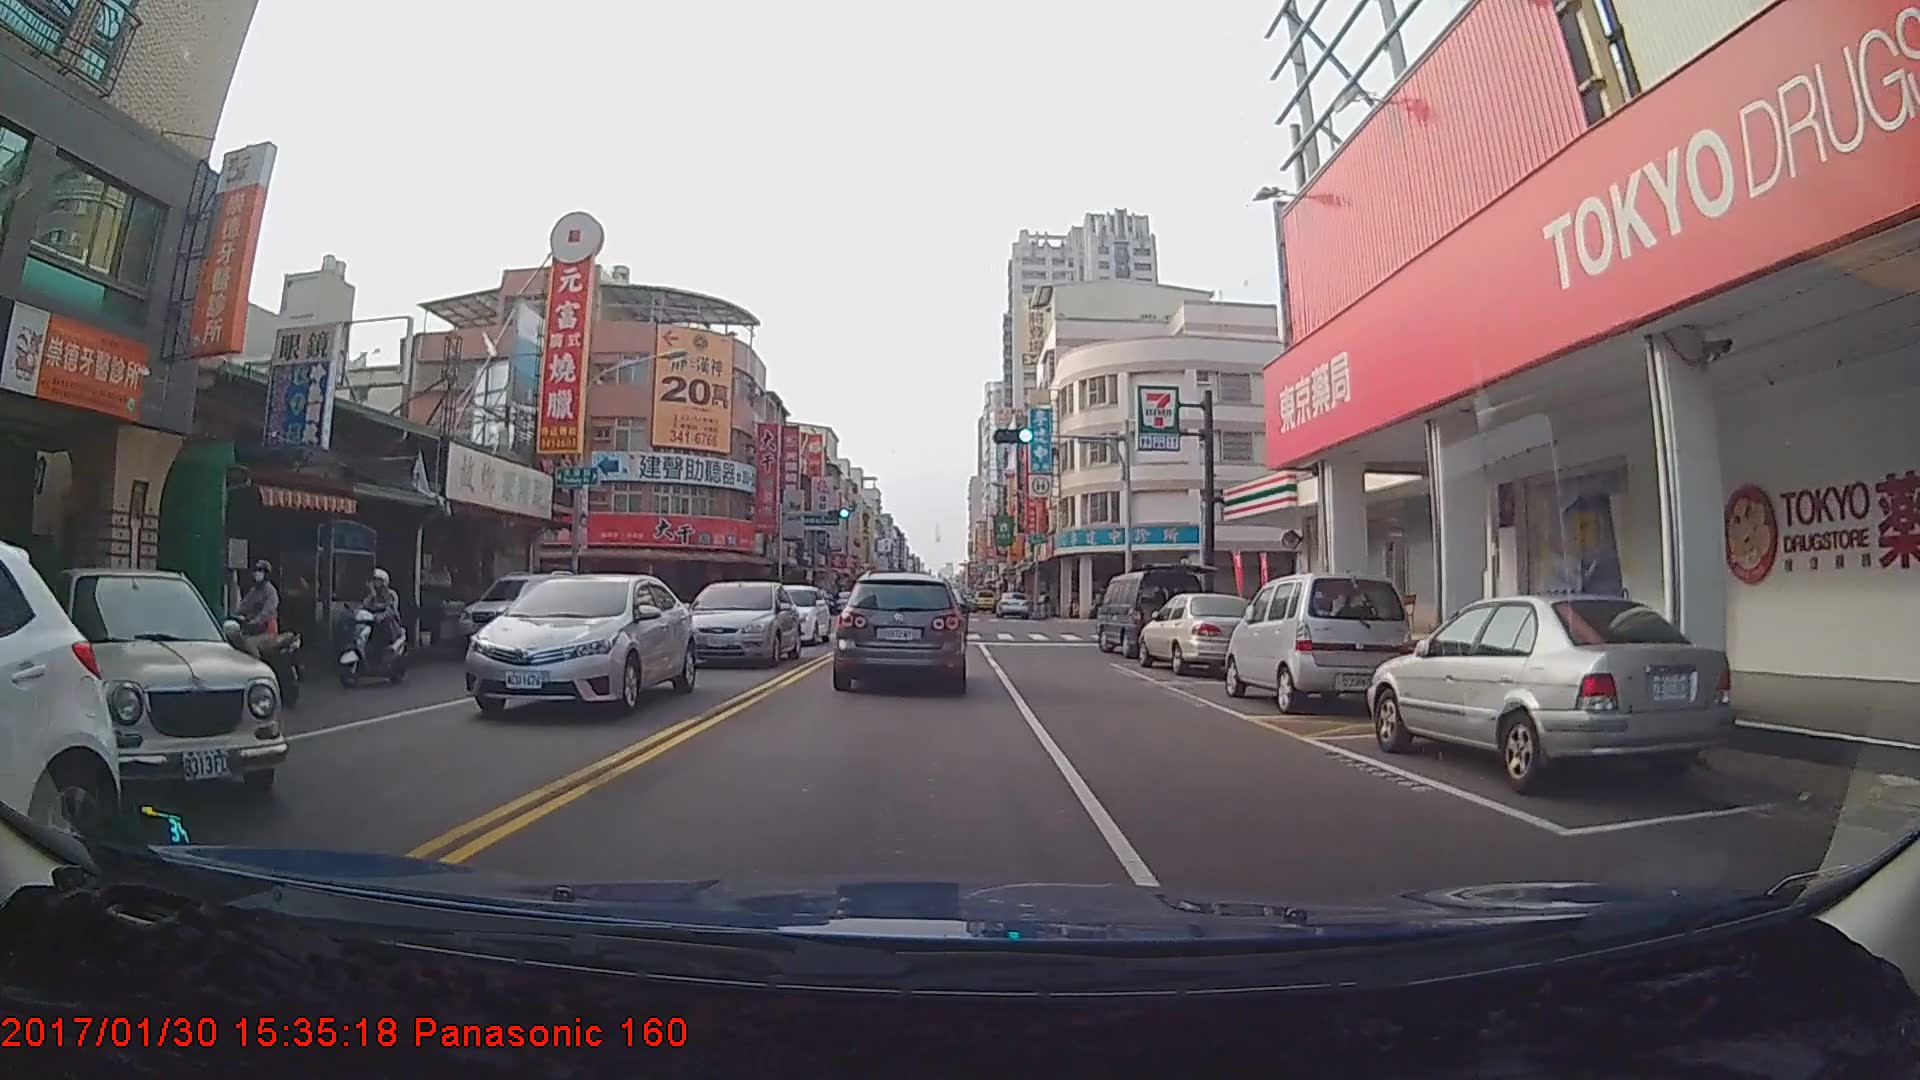rider: (204, 557, 308, 706), (331, 569, 421, 688)
vehicle: (1368, 591, 1731, 794), (0, 565, 284, 800), (0, 536, 122, 904), (465, 572, 690, 721), (1223, 570, 1414, 717), (837, 571, 965, 692), (456, 569, 582, 658), (679, 580, 799, 669), (1140, 592, 1265, 676), (1096, 574, 1206, 656), (755, 586, 832, 645), (992, 591, 1030, 618)
